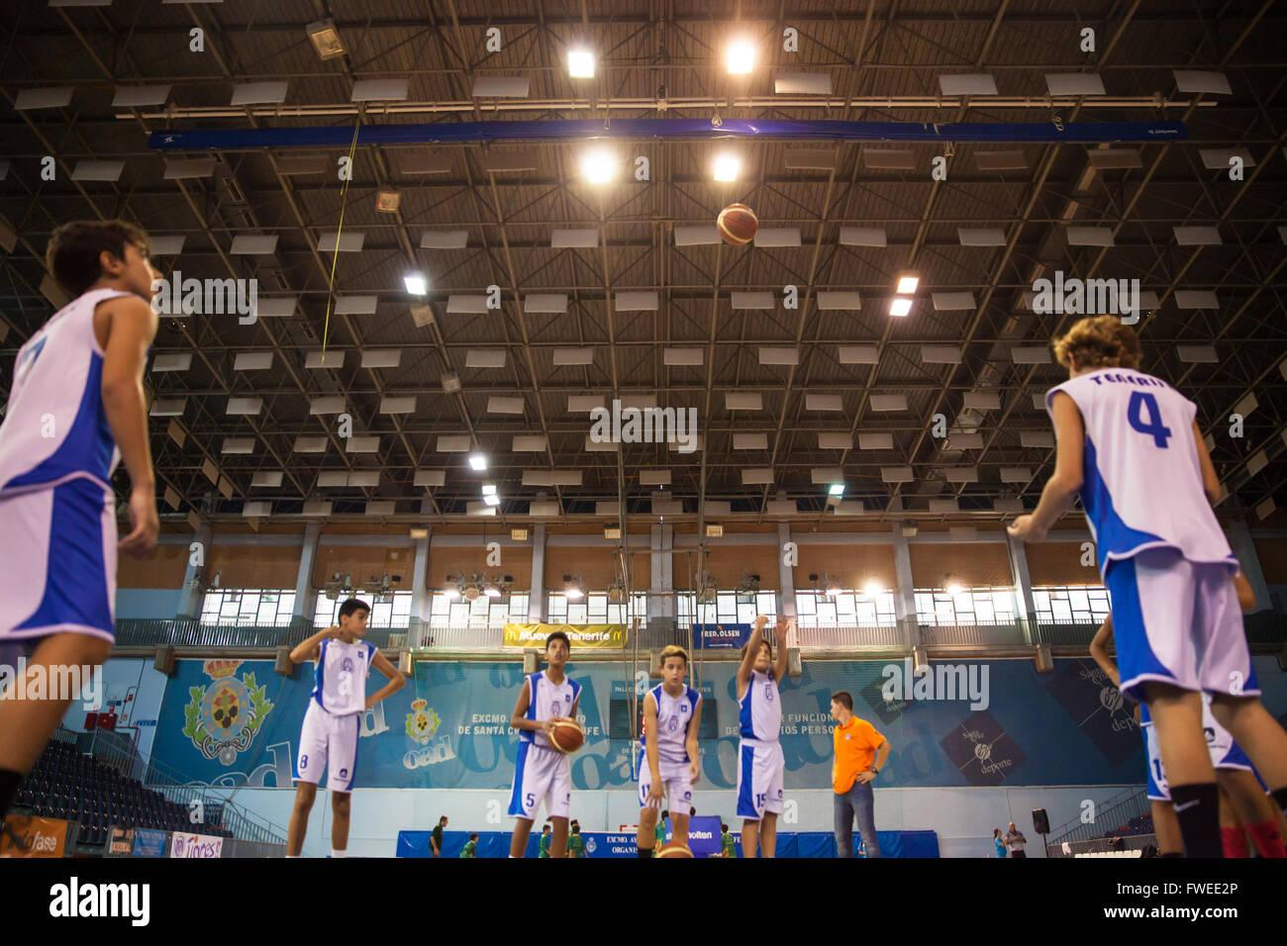basketball: (716, 204, 762, 247), (549, 717, 587, 752)
